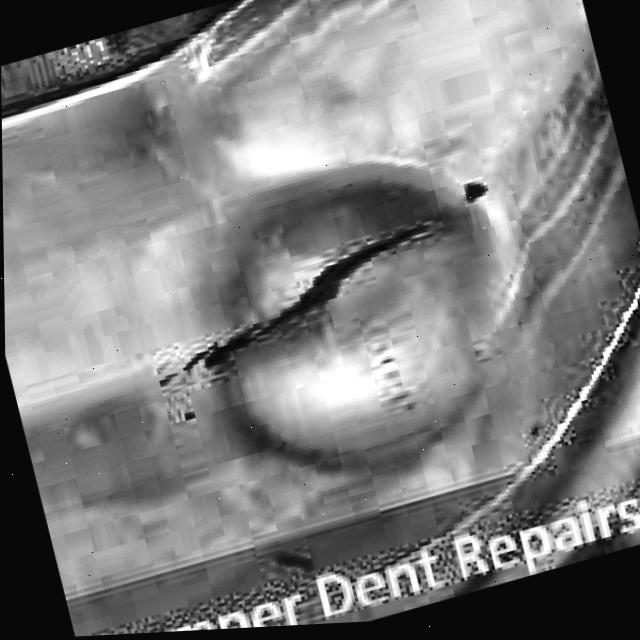bumper_dent: (185, 133, 544, 499)
bumper_scratch: (142, 212, 469, 381)
